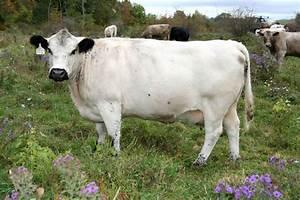cow: (29, 26, 255, 167), (103, 24, 117, 37)
